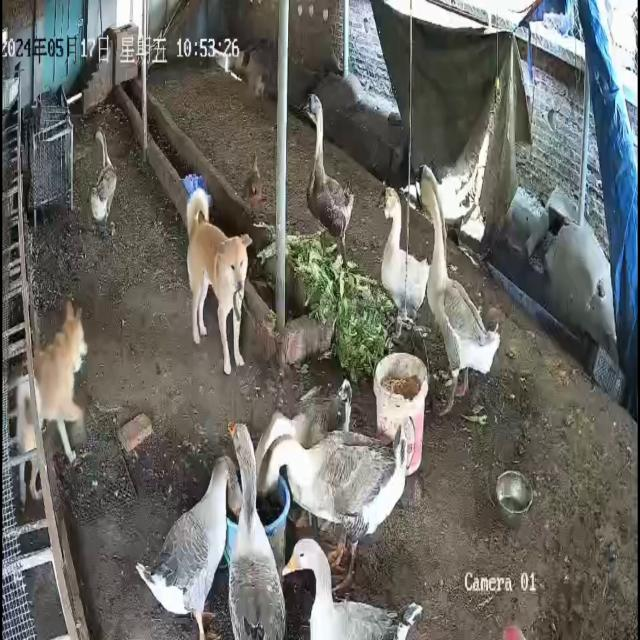bird: (13, 300, 93, 514)
dog: (186, 188, 254, 376)
